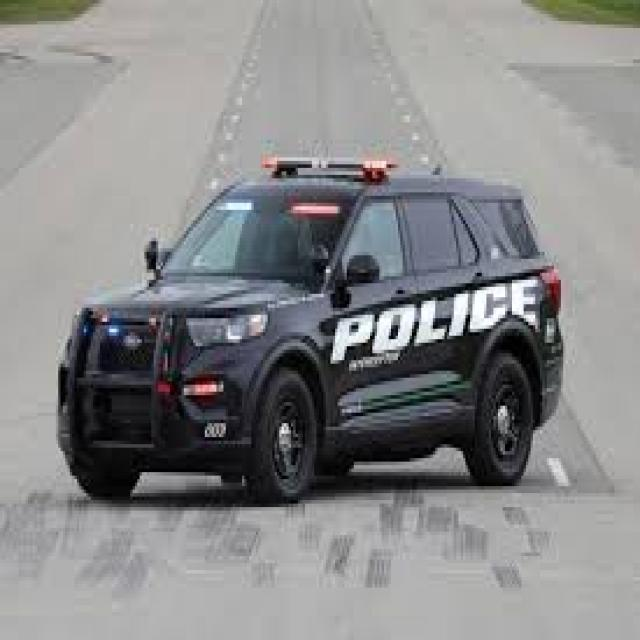cop: (54, 174, 570, 500)
